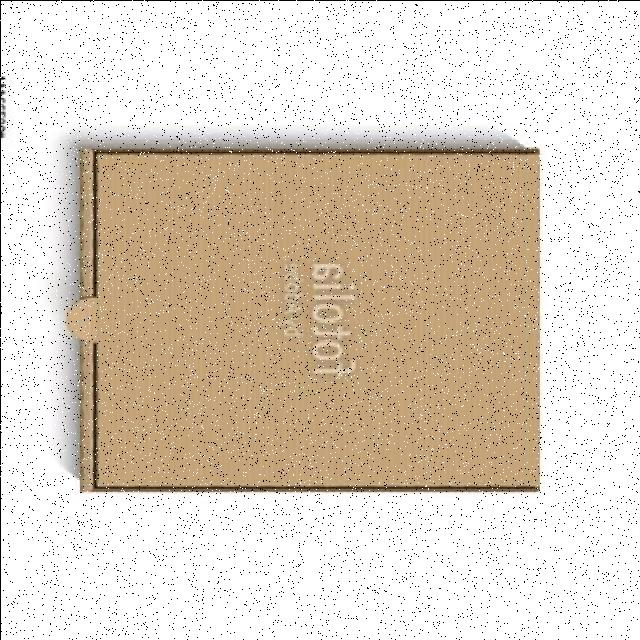normal: (70, 142, 548, 498)
